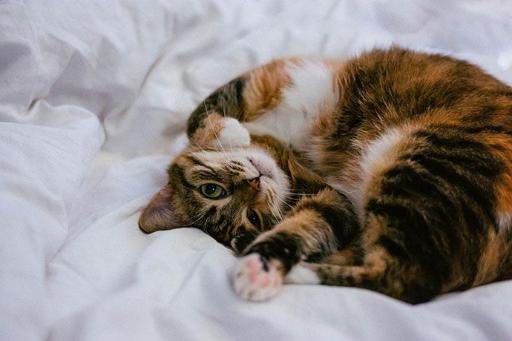cat_sleeping: (140, 47, 512, 303)
